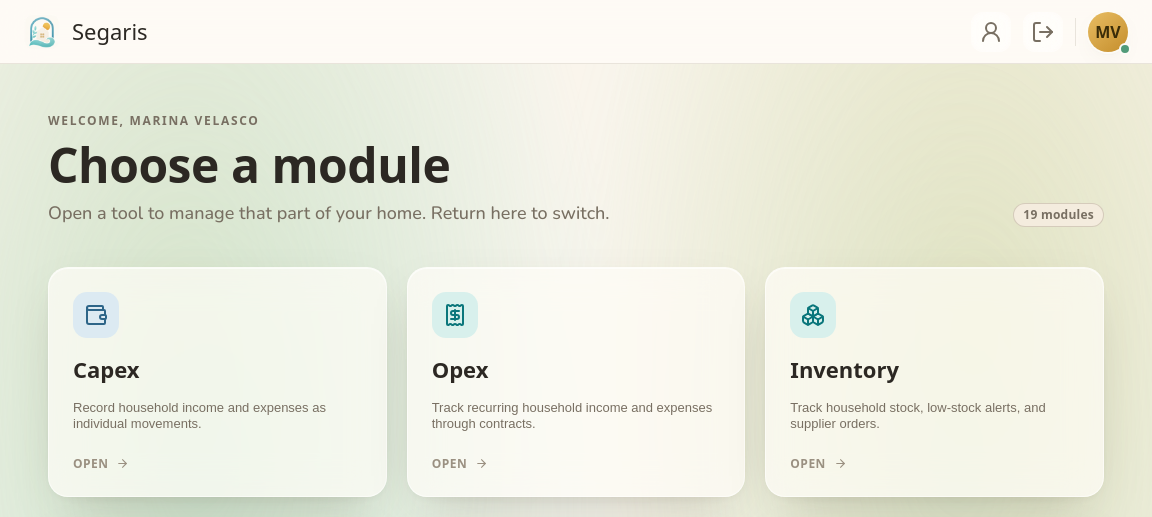
Scenario: Capex navigation › loads the Capex module lazily from the launcher and returns to it
expect the heading "Choose a module" is shown: met, box [48, 132, 450, 197]
Step 1. Click the button "Capex" → (96, 315), box [48, 267, 387, 497]
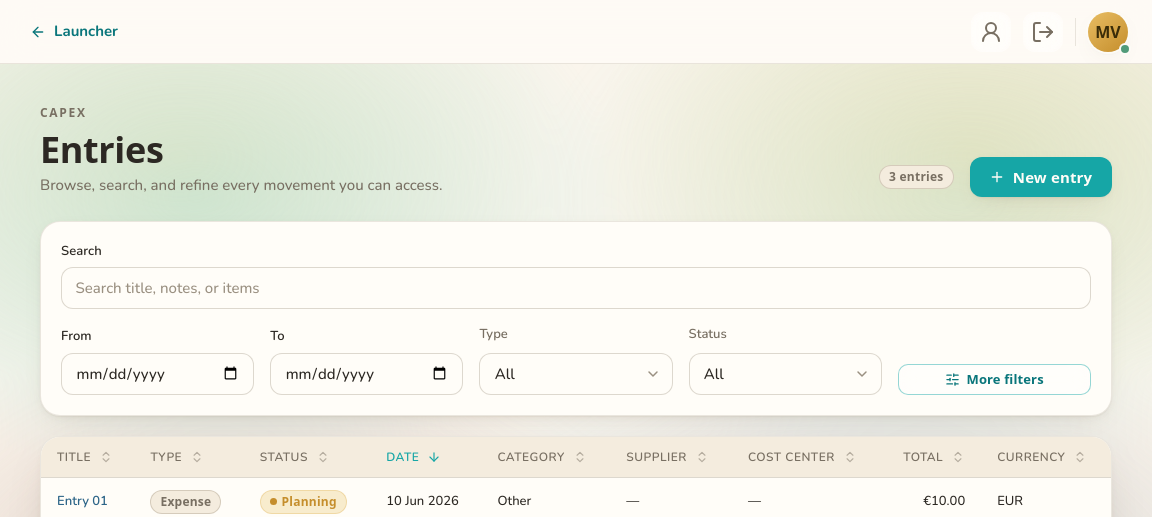
expect the heading "Entries" is shown: met, box [40, 125, 163, 174]
Step 2. Click the button "Launcher" → (74, 32), box [24, 19, 124, 44]
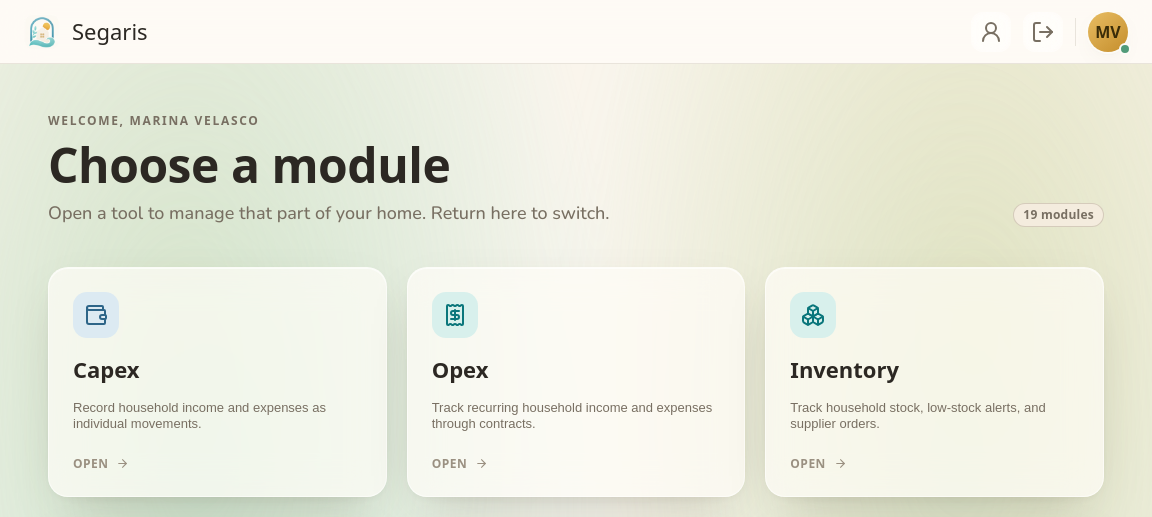
expect the heading "Choose a module" is shown: met, box [48, 132, 450, 197]
